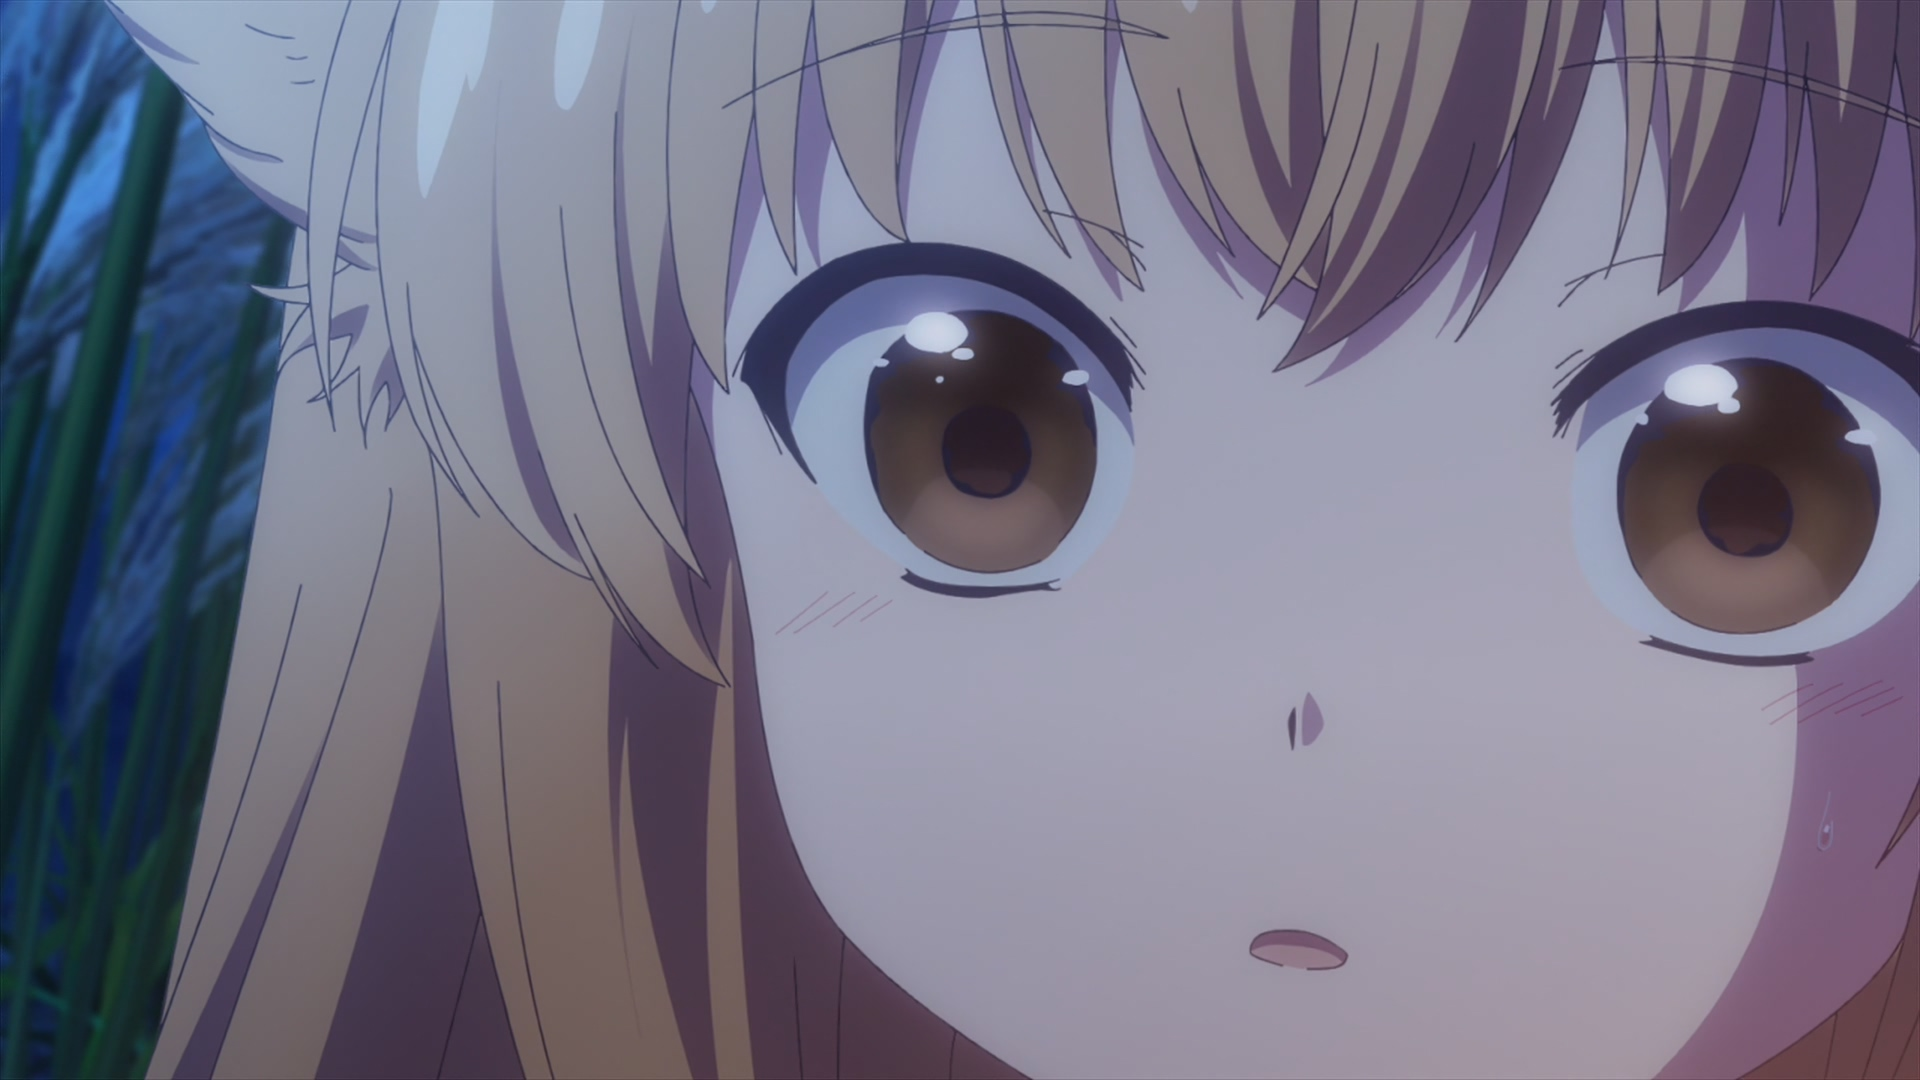柚: (107, 1, 1920, 1080)
